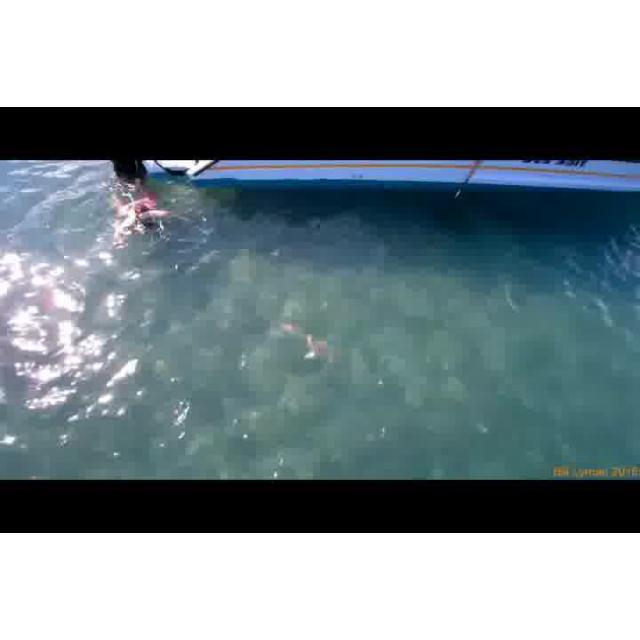human: (109, 189, 174, 248)
